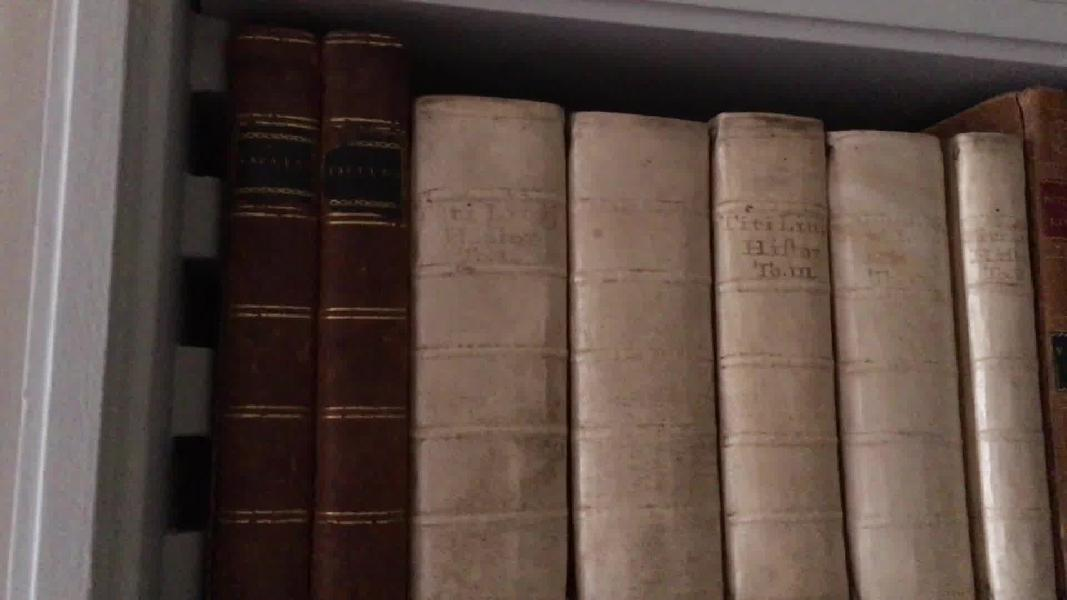Kk4-1_2: (213, 11, 420, 600)
Kk4-3_7: (402, 70, 1062, 600)
